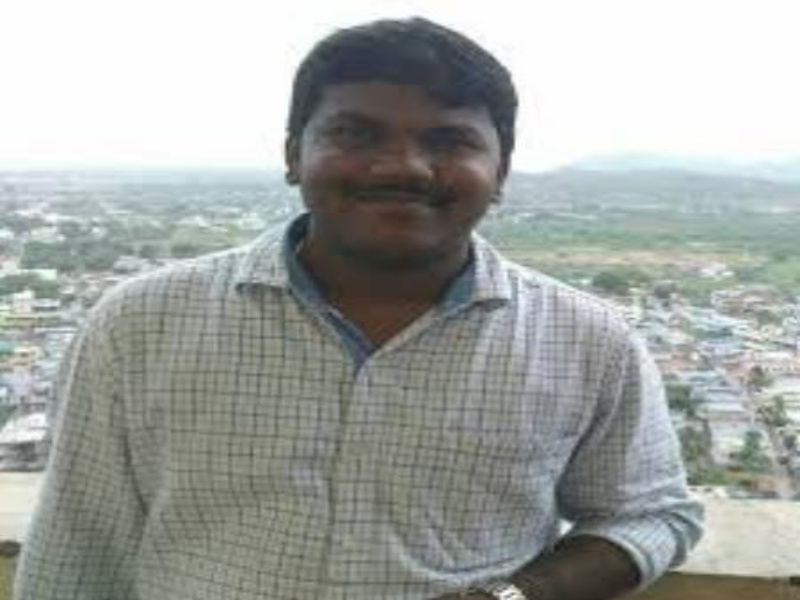TsisyArotava: (270, 23, 521, 282)
